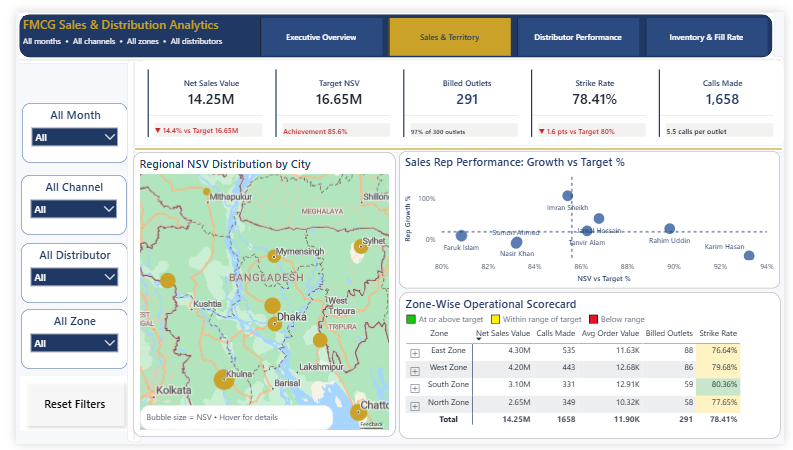

The dashboard page shown, as its layout file describes it:
{"tool":"powerbi","page":{"name":"Sales & Territory","canvas":[1280,720],"ordinal":1},"visuals":[{"type":"slicer","title":"All Month","fields":{"Values":["Calendar.Month"]},"box":[9.5,152.4,176.2,100],"z":0},{"type":"slicer","title":"All Channel","fields":{"Values":["otif_log.channel"]},"box":[7.9,271.4,176.2,100],"z":1000},{"type":"slicer","title":"All Distributor","fields":{"Values":["dim_outlet_route.distributor"]},"box":[7.9,385.7,177.8,100],"z":2000},{"type":"slicer","title":"All Zone","fields":{"Values":["dim_outlet_route.zone"]},"box":[7.9,495.2,177.8,100],"z":3000},{"type":"actionButton","box":[6.3,606.3,182.5,92.1],"z":4000},{"type":"shape","box":[2.4,73.1,1277.6,13.4],"z":5000},{"type":"shape","box":[185.1,80.6,23.9,637.3],"z":6000},{"type":"cardVisual","fields":{"Data":["_Measures_Sales and Margins.NSV","__Measure_Target and Rep.Target NSV","_Measures_Sales and Margins.Billed Outlets","__Measure_Target and Rep.Strike Rate","__Measure_Target and Rep.Calls Made"]},"box":[203,80.6,1076.1,144.8],"z":7000},{"type":"shape","box":[194.3,221,1085.7,13.3],"z":8000},{"type":"azureMap","title":"Regional NSV Distribution by City","fields":{"Category":["dim_outlet_route.city"],"Size":["_Measures_Sales and Margins.NSV"]},"box":[195.7,233.3,437.7,475.4],"z":9000},{"type":"scatterChart","title":"Sales Rep Performance: Growth vs Target %","fields":{"Category":["dim_rep.rep_name"],"X":["__Measure_Target and Rep.NSV vs Target %"],"Y":["M1.Rep Growth %"]},"box":[637.7,231.9,634.8,229],"z":10000},{"type":"pivotTable","title":"Zone-Wise Operational Scorecard","fields":{"Rows":["dim_outlet_route.zone","dim_outlet_route.city"],"Values":["_Measures_Sales and Margins.NSV","__Measure_Target and Rep.Calls Made","_Measures_Sales and Margins.Avg Order Value","_Measures_Sales and Margins.Billed Outlets","__Measure_Target and Rep.Strike Rate"]},"box":[637.7,466.7,636.2,244.9],"z":11000},{"type":"shape","box":[1.9,0,1263,79.6],"z":12000},{"type":"shape","box":[11.7,6.7,381.7,58.3],"z":13000},{"type":"pageNavigator","box":[406.7,10,848.3,63.3],"z":14000},{"type":"textbox","box":[206.7,655,321.7,41.7],"z":15000}]}

Visuals, with their boxes in screenshot pixels (x1, y1, x2, y2), scaled from the page's 1280x720 canvas onto the 793x450 screenshot:
"All Month" slicer: 6:95:115:158
"All Channel" slicer: 5:170:114:232
"All Distributor" slicer: 5:241:115:304
"All Zone" slicer: 5:310:115:372
actionButton: 4:379:117:436
shape: 1:46:792:54
shape: 115:50:129:449
cardVisual - _Measures_Sales and Margins.NSV x __Measure_Target and Rep.Target NSV: 126:50:792:141
shape: 120:138:792:146
"Regional NSV Distribution by City" azureMap: 121:146:392:443
"Sales Rep Performance: Growth vs Target %" scatterChart: 395:145:788:288
"Zone-Wise Operational Scorecard" pivotTable: 395:292:789:445
shape: 1:0:784:50
shape: 7:4:244:41
pageNavigator: 252:6:778:46
textbox: 128:409:327:435
